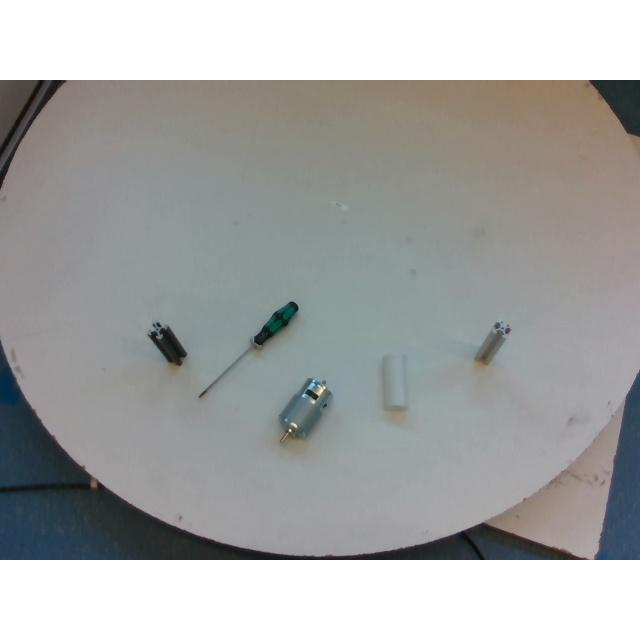F20_20_B: (148, 321, 186, 365)
F20_20_G: (474, 321, 510, 364)
Motor2: (279, 378, 331, 442)
Screwdriver: (198, 301, 298, 397)
Spacer: (382, 354, 408, 410)
